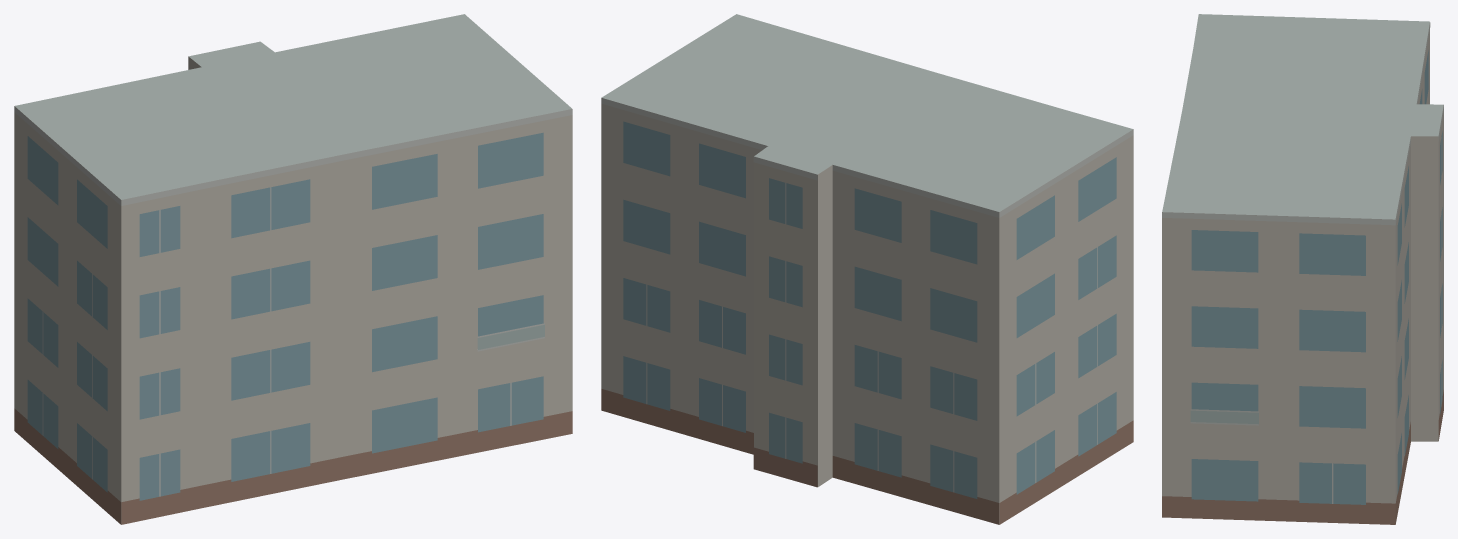
The model's file is survey-upis-32957002.glb.
3 views of the same model, side by side, from view 1: azimuth 30°, elevation 25°; view 2: azimuth 150°, elevation 25°; view 3: azimuth 270°, elevation 25° (orthographic). The views are drawn at different scales.
Parts seen in each view (by area): view 1: survey-upis-32957002.tmp; view 2: survey-upis-32957002.tmp; view 3: survey-upis-32957002.tmp.
Part boxes in pixels (left/top/right/bottom): survey-upis-32957002.tmp: left=14, top=14, right=572, bottom=524; survey-upis-32957002.tmp: left=601, top=14, right=1133, bottom=524; survey-upis-32957002.tmp: left=1162, top=14, right=1443, bottom=524.
Size of the model in its own units: 18.78 by 13 by 10.88.
